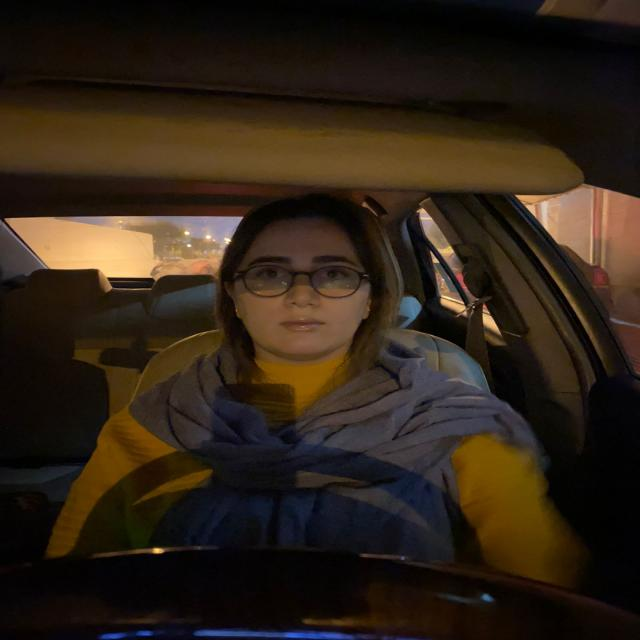person: (216, 191, 390, 360)
